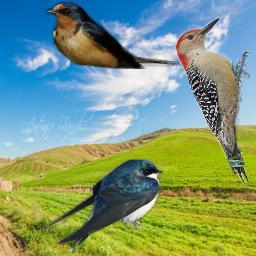Swallow: (41, 158, 163, 246), (45, 2, 181, 69)
Woodpecker: (176, 15, 250, 186)
